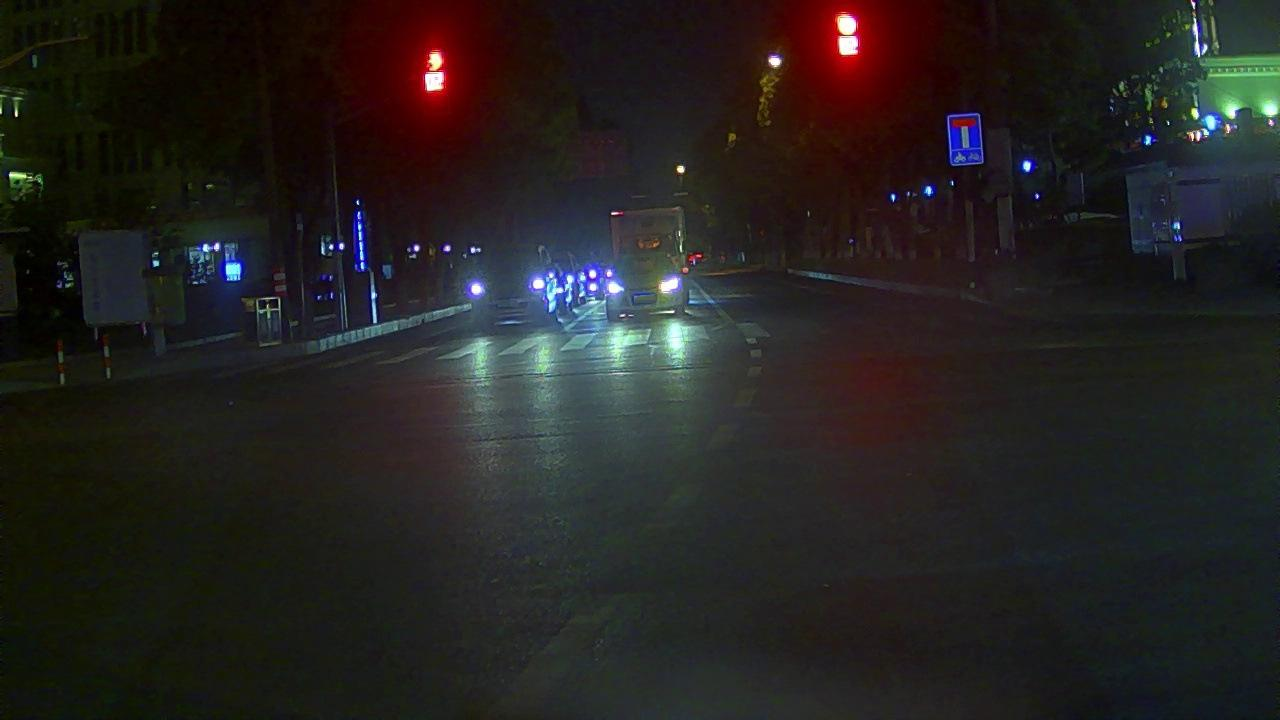traffic_light: (831, 7, 863, 68), (420, 44, 450, 97)
